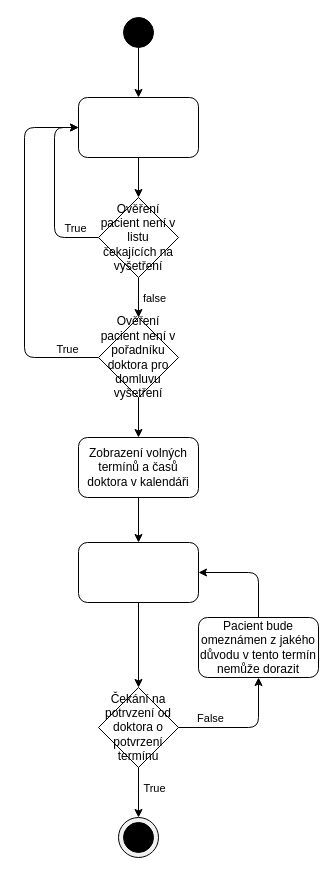
This 336x875 diagram has some shape labels left out. The centre of each missing label's shape, as x and y in pixels:
"Kliknutí na tlačítko objednat se na kontrolu" belongs at (x=138, y=127).
"Pacient si vybere volný termín" belongs at (x=138, y=572).
